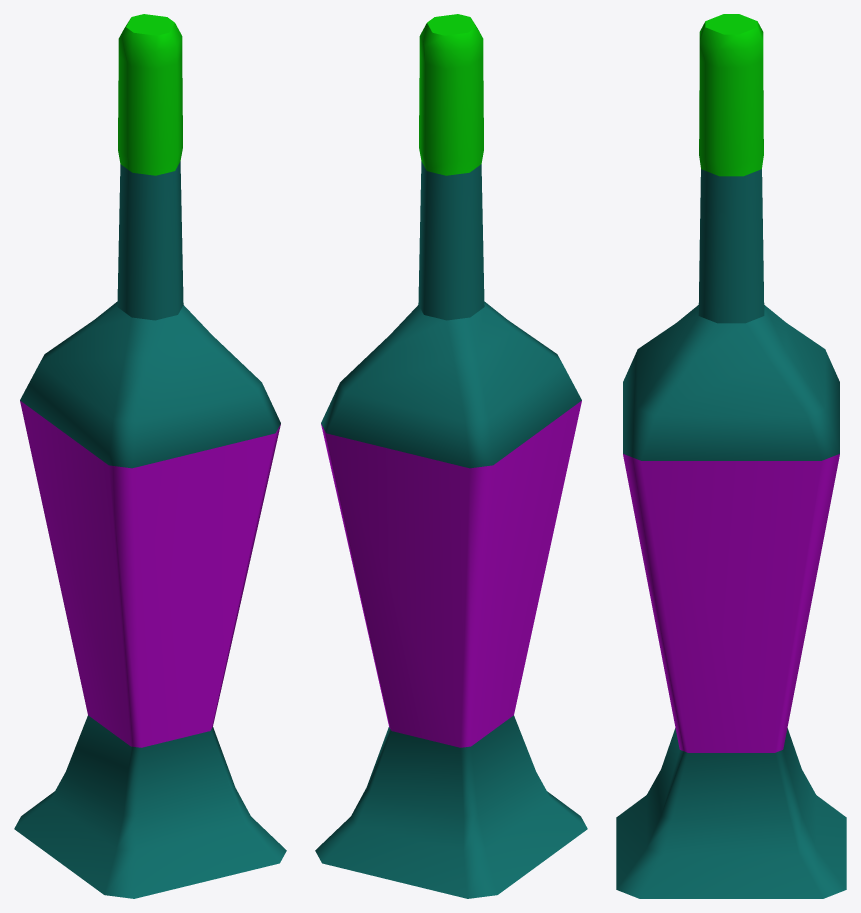
3 renders of one model, left to right at view 1: azimuth 30°, elevation 25°; view 2: azimuth 150°, elevation 25°; view 3: azimuth 270°, elevation 25°, orthographic.
Visible parts, largest first — view 1: B1; view 2: B1; view 3: B1.
Part boxes in pixels (x1,y1,x2,y2): B1: (14, 14, 286, 898); B1: (315, 14, 587, 898); B1: (616, 14, 846, 898).
Bounding box in the file's own units: 38.84 × 166 × 41.66.
